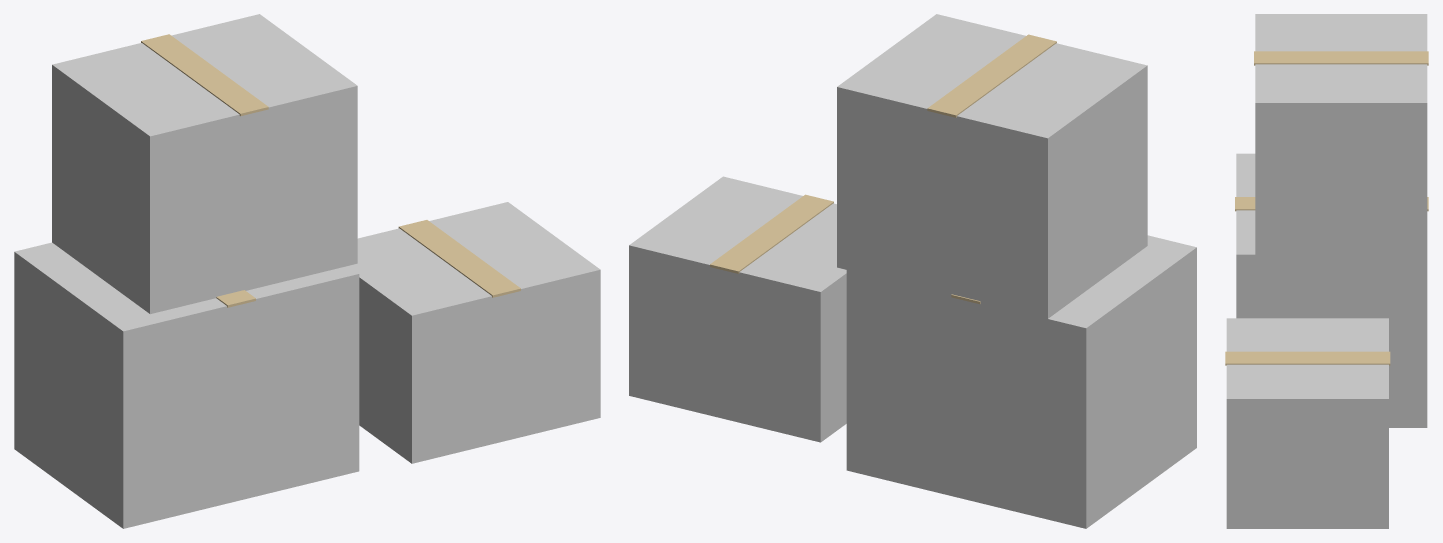
File: cardboard_boxes.glb
3 views of the same model, side by side, from view 1: azimuth 30°, elevation 25°; view 2: azimuth 150°, elevation 25°; view 3: azimuth 270°, elevation 25° (orthographic). The views are drawn at different scales.
Parts seen in each view (by area): view 1: cardboard_boxes; view 2: cardboard_boxes; view 3: cardboard_boxes.
Part boxes in pixels (x1=…): cardboard_boxes: x1=14, y1=14, x2=600, y2=528; cardboard_boxes: x1=629, y1=14, x2=1196, y2=528; cardboard_boxes: x1=1225, y1=14, x2=1428, y2=528.
Bounding box in the file's own units: 1 × 0.7625 × 0.425.
